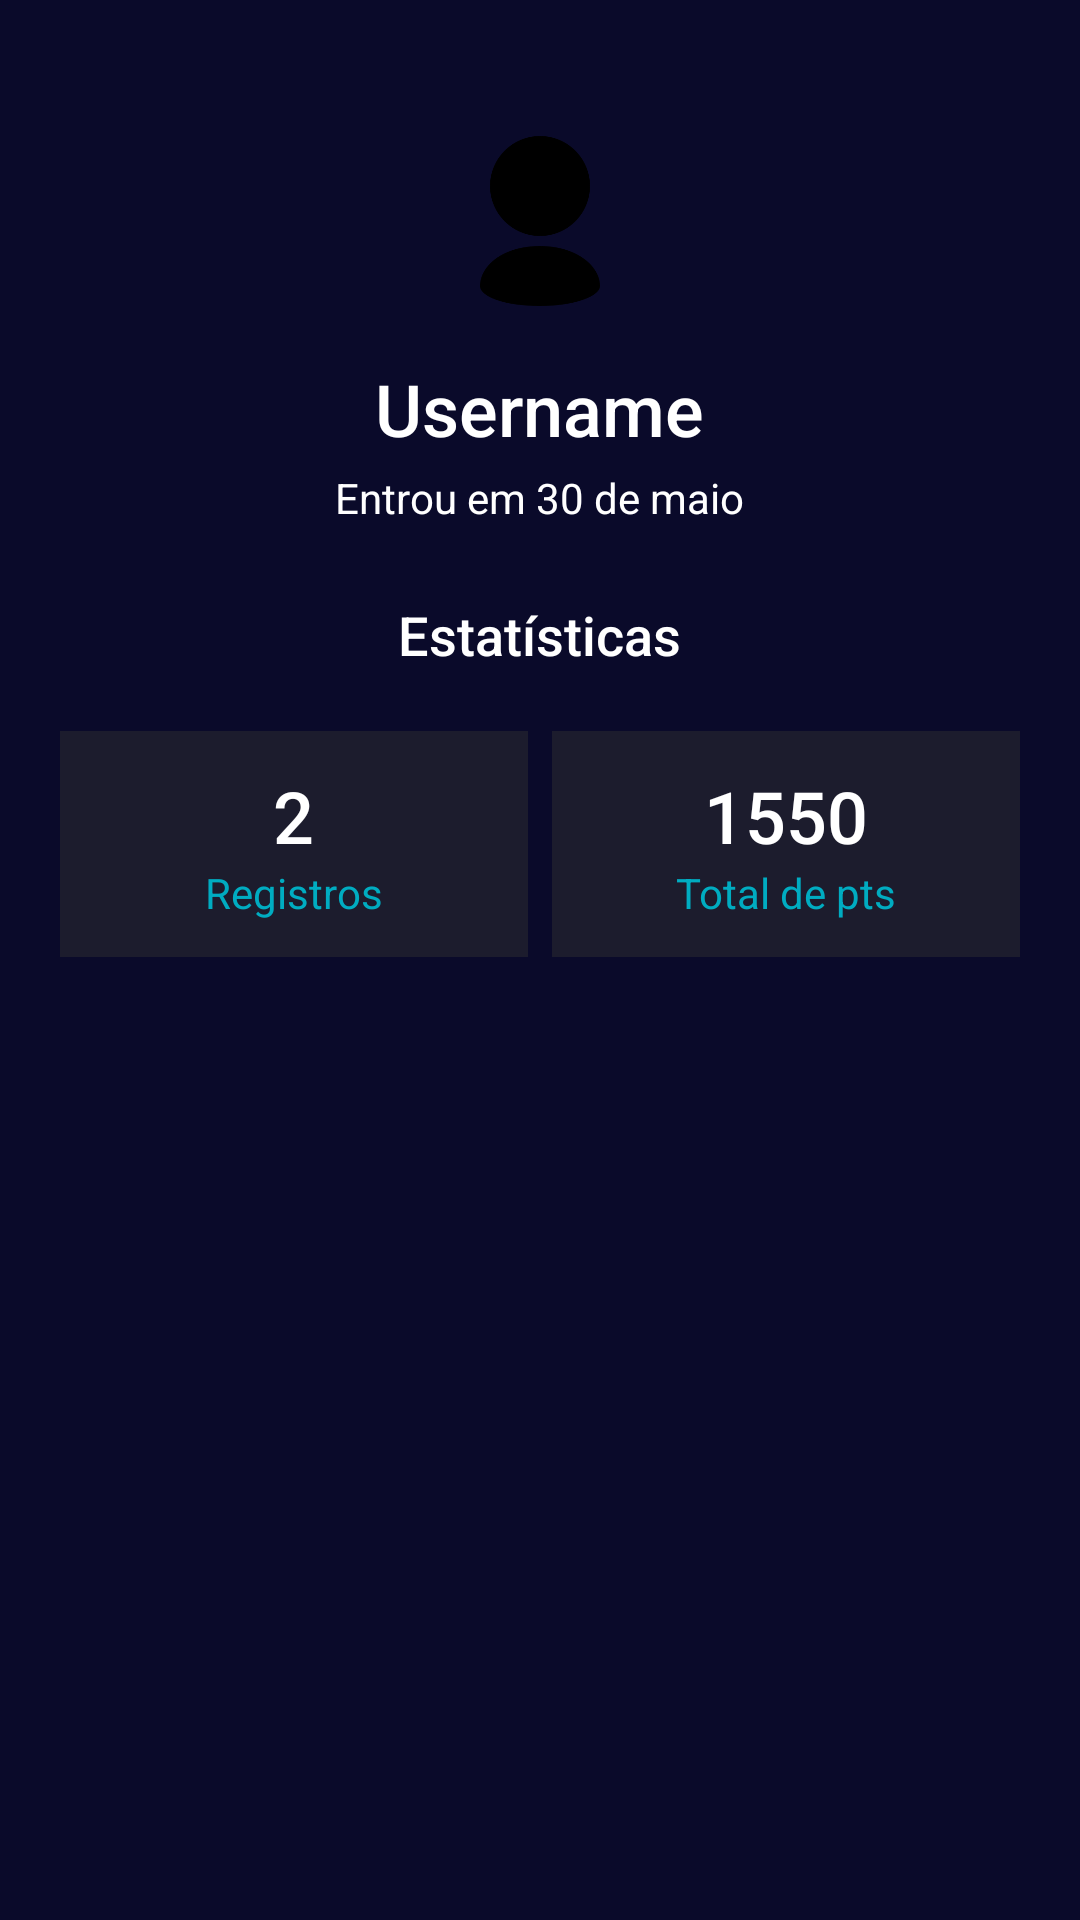

Icon click points for this 1080 x 1920 phone screenshot, format (x,y):
profile: (540,221)
